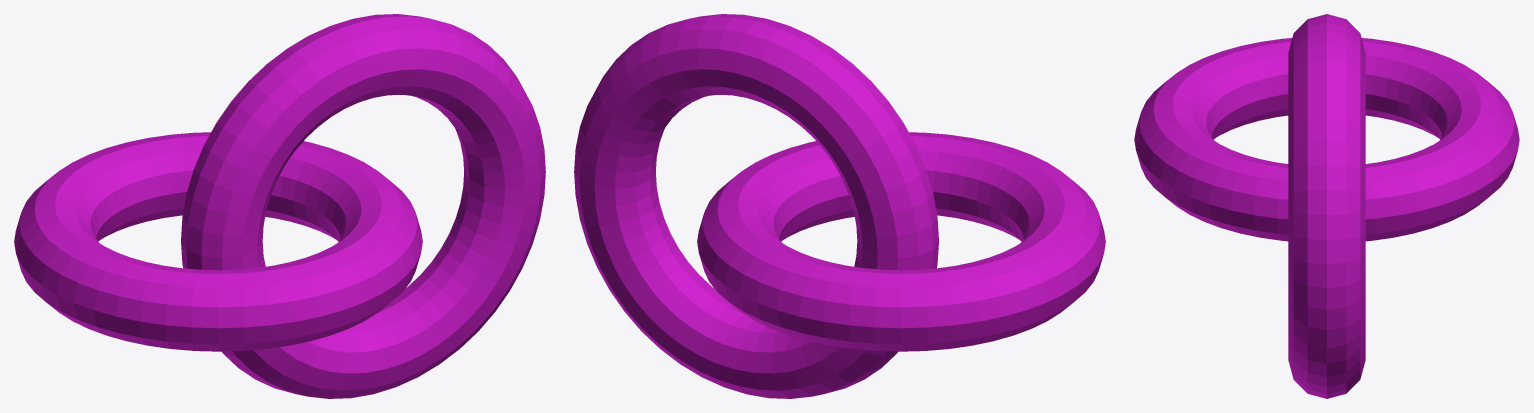
The model's file is 2tor.obj.
The picture shows the model from 3 angles, left to right: view 1: azimuth 30°, elevation 25°; view 2: azimuth 150°, elevation 25°; view 3: azimuth 270°, elevation 25°; orthographic projection. The views are drawn at different scales.
Parts seen in each view (by area): view 1: Torus.001, Torus; view 2: Torus.001, Torus; view 3: Torus, Torus.001.
Part boxes in pixels (<box>): Torus.001: <box>181,14,545,398</box>; Torus: <box>14,132,422,351</box>; Torus.001: <box>574,14,938,398</box>; Torus: <box>697,132,1105,351</box>; Torus: <box>1134,38,1519,241</box>; Torus.001: <box>1288,14,1365,398</box>.
Size of the model in its own units: 3.52 by 2.5 by 2.5.
